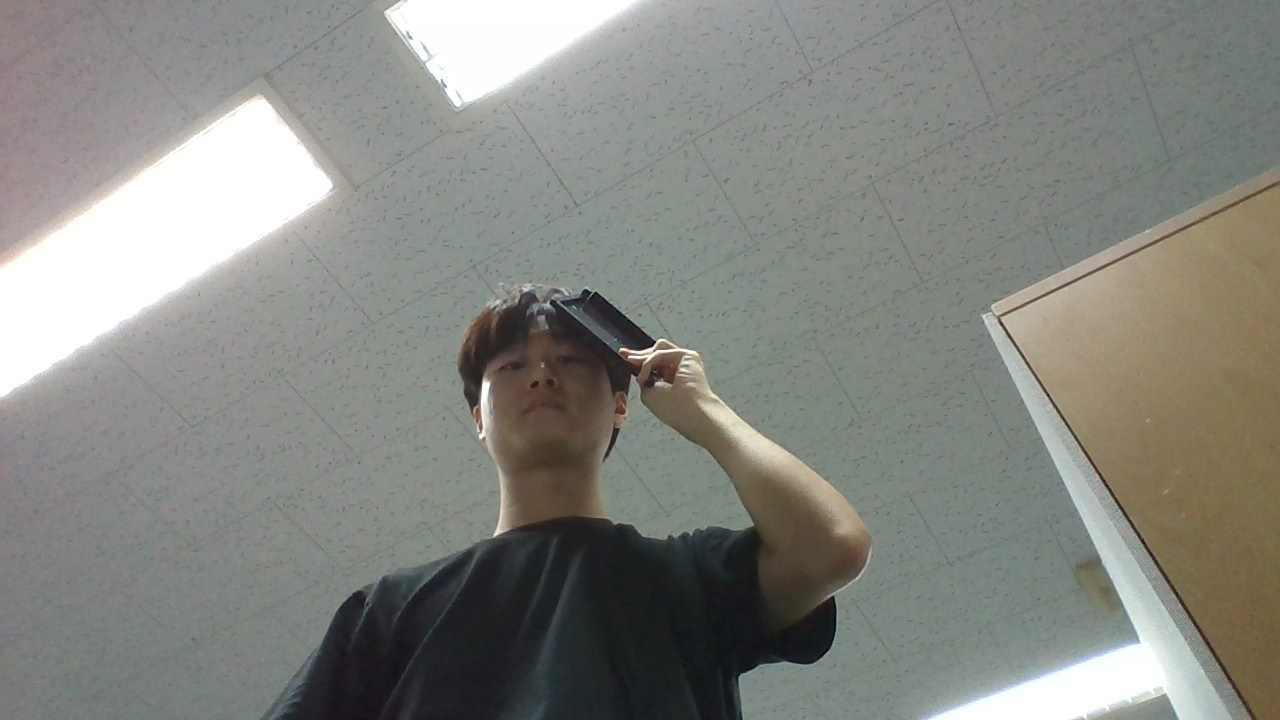Non-Helmet: (440, 270, 677, 505)
